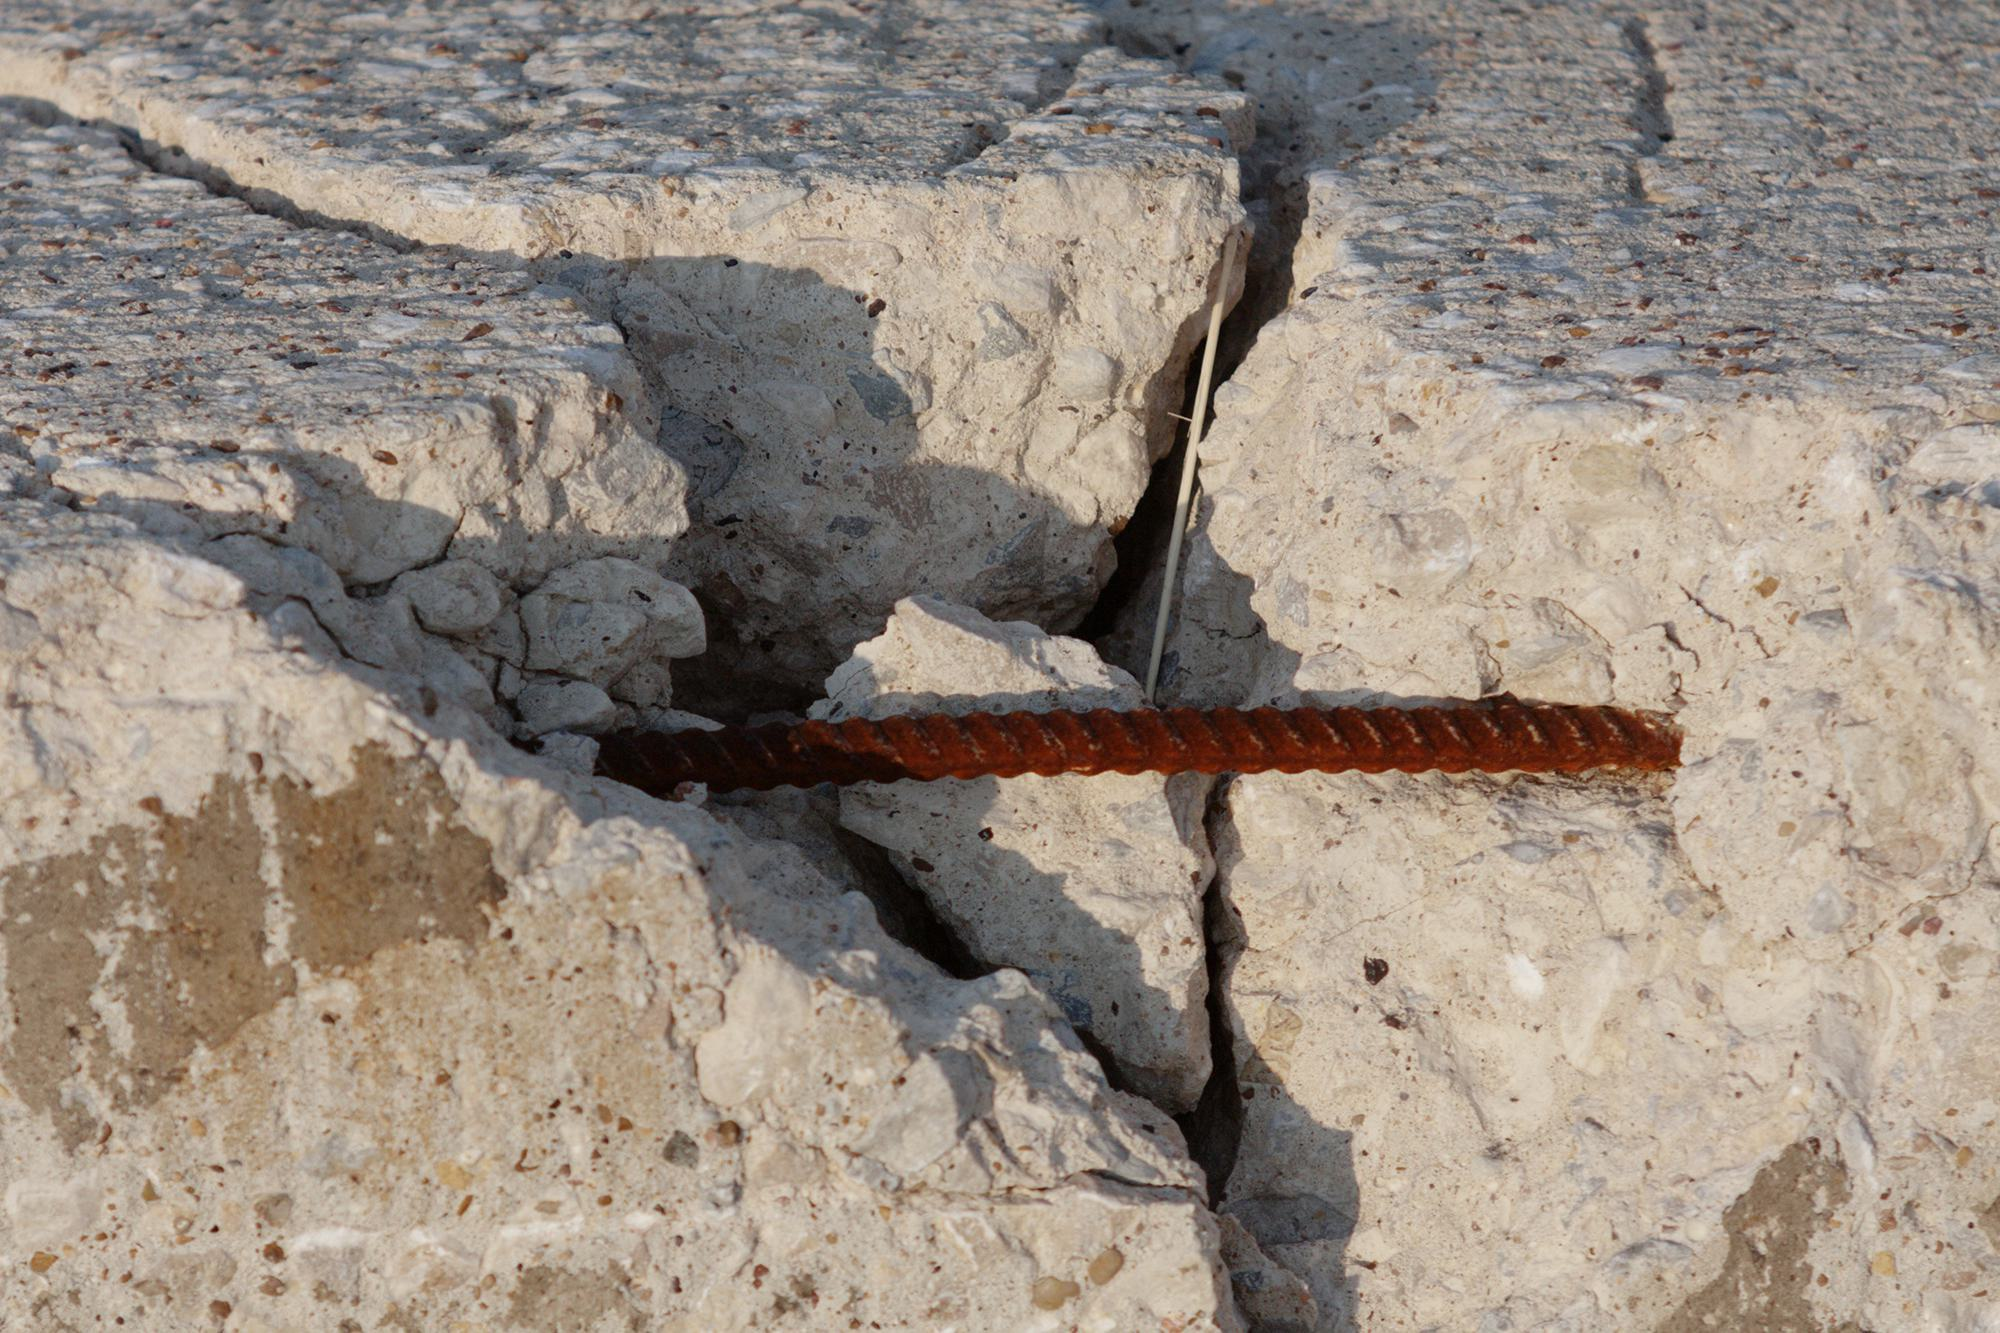Exposed reinforcement: (584, 704, 1691, 786)
Spalling: (110, 184, 2000, 1333)
